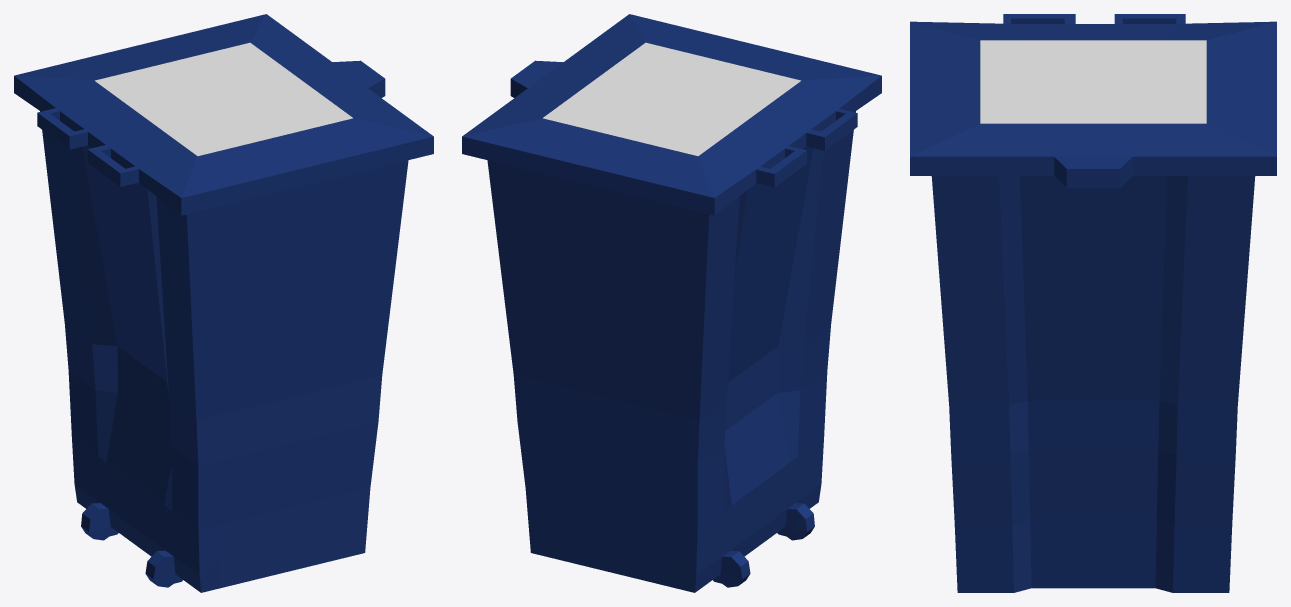
The model's file is rollaway_dumpster.gltf.
The picture shows the model from 3 angles, left to right: view 1: azimuth 30°, elevation 25°; view 2: azimuth 150°, elevation 25°; view 3: azimuth 270°, elevation 25°; orthographic projection. The views are drawn at different scales.
Visible parts, largest first — view 1: Cube; view 2: Cube; view 3: Cube.
Boxes of the visible parts, left/top/right/bottom form: Cube: left=14, top=14, right=433, bottom=592; Cube: left=462, top=14, right=881, bottom=592; Cube: left=910, top=14, right=1276, bottom=592.
Bounding box in the file's own units: 2.29 × 3.27 × 2.26.
